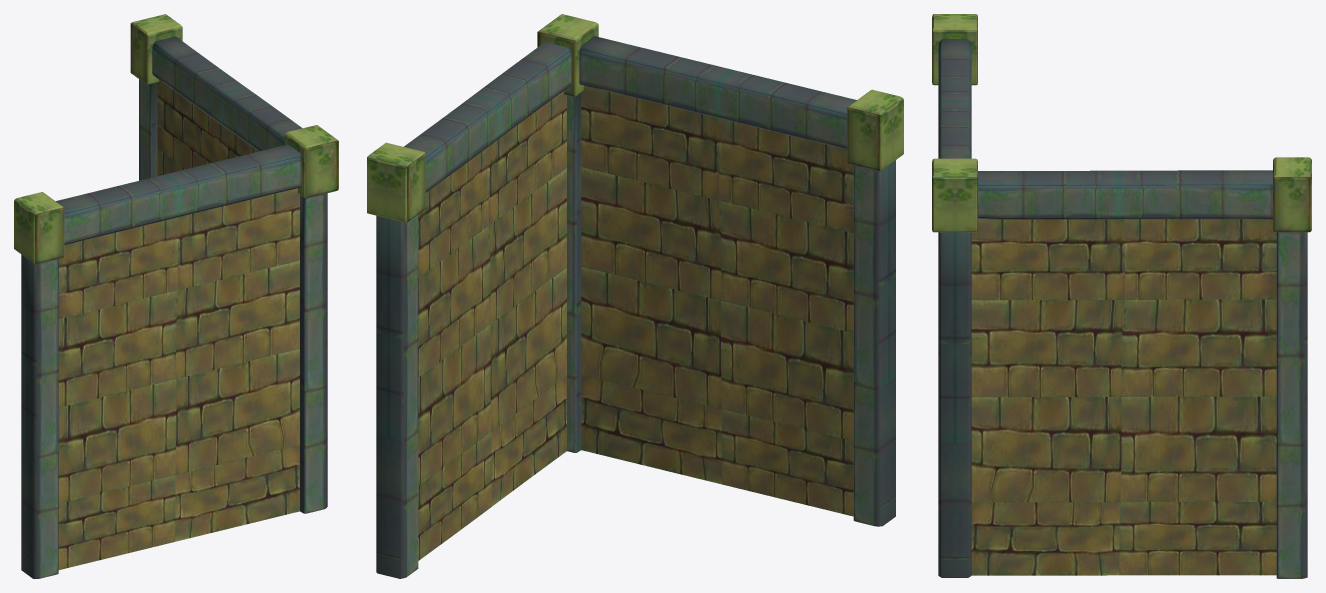
File: SM_WallCorner.fbx
3 views of the same model, side by side, from view 1: azimuth 30°, elevation 25°; view 2: azimuth 150°, elevation 25°; view 3: azimuth 270°, elevation 25° (orthographic). The views are drawn at different scales.
Visible parts, largest first — view 1: SM_WallCorner; view 2: SM_WallCorner; view 3: SM_WallCorner.
Boxes of the visible parts, left/top/right/bottom form: SM_WallCorner: left=14, top=14, right=338, bottom=578; SM_WallCorner: left=367, top=14, right=903, bottom=578; SM_WallCorner: left=932, top=14, right=1311, bottom=578.
Size of the model in its own units: 618 by 714 by 606.
